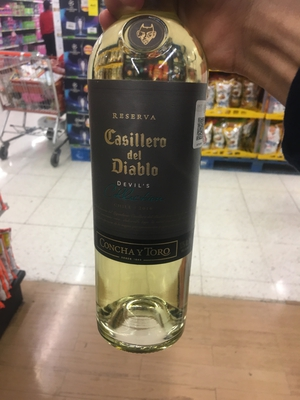casillero del diablo devils collection verde: (81, 7, 211, 358)
